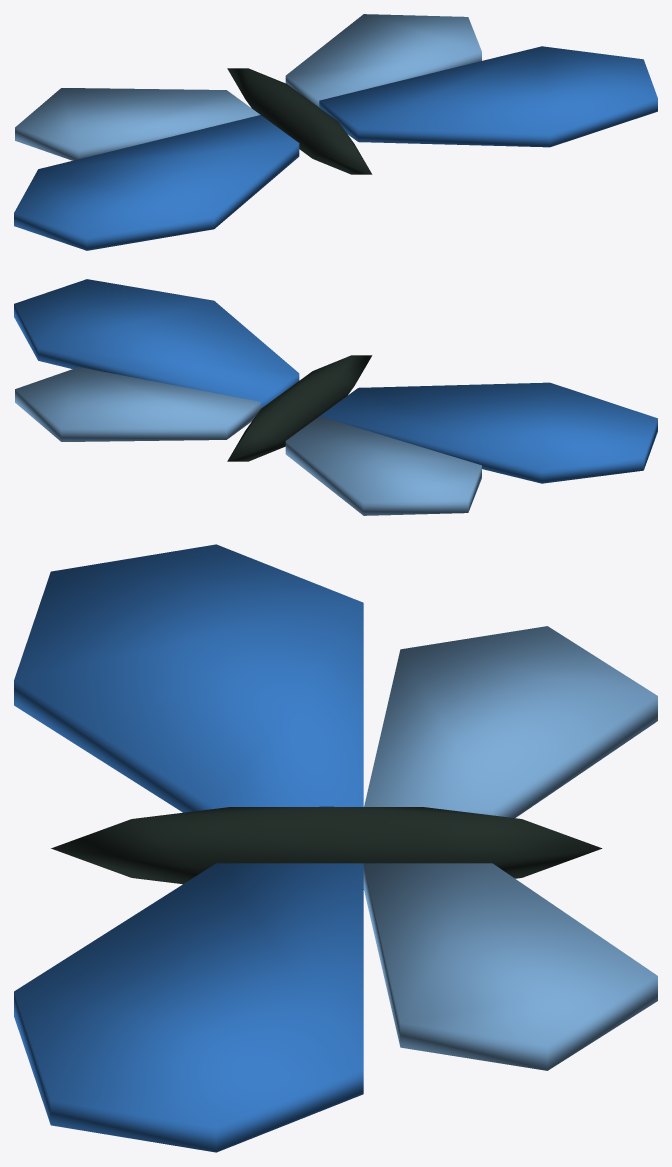
File: butterfly.glb
3 renders of one model, top to bottom at view 1: azimuth 30°, elevation 25°; view 2: azimuth 150°, elevation 25°; view 3: azimuth 270°, elevation 25°, orthographic. The views are drawn at different scales.
Visible parts, largest first — view 1: butterfly; view 2: butterfly; view 3: butterfly.
Boxes of the visible parts, x1=… form: butterfly: x1=14, y1=14, x2=657, y2=250; butterfly: x1=14, y1=279, x2=657, y2=515; butterfly: x1=14, y1=544, x2=657, y2=1152.
Size of the model in its own units: 0.15 by 0.01 by 0.07.
